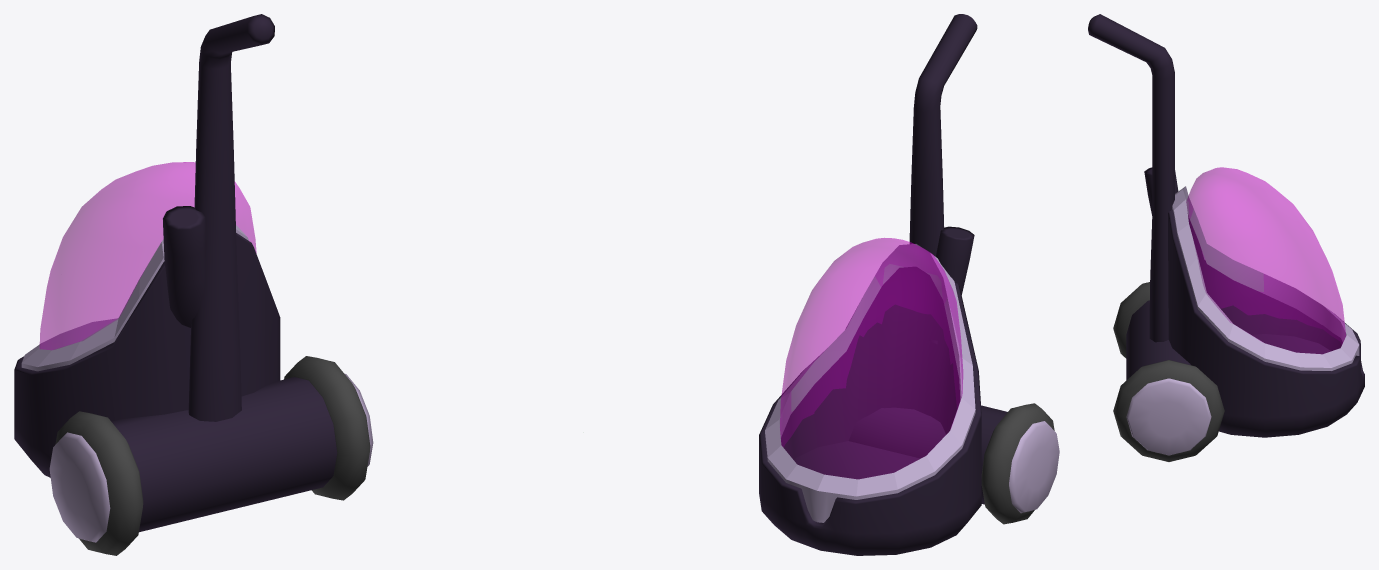
The model's file is M_vacbody.fbx.
3 views of the same model, side by side, from view 1: azimuth 30°, elevation 25°; view 2: azimuth 150°, elevation 25°; view 3: azimuth 270°, elevation 25° (orthographic). The views are drawn at different scales.
Visible parts, largest first — view 1: body1, tank, wheels, wheel_cap, trim; view 2: body1, tank, trim, wheels, wheel_cap; view 3: body1, tank, trim, wheel_cap, wheels.
Boxes of the visible parts, left/top/right/bottom form: body1: left=14, top=14, right=337, bottom=532; tank: left=39, top=162, right=256, bottom=350; wheels: left=55, top=356, right=370, bottom=555; wheel_cap: left=49, top=373, right=373, bottom=542; trim: left=21, top=225, right=248, bottom=371; body1: left=759, top=14, right=1007, bottom=555; tank: left=780, top=238, right=963, bottom=478; trim: left=765, top=244, right=975, bottom=522; wheels: left=981, top=403, right=1054, bottom=524; wheel_cap: left=1009, top=421, right=1059, bottom=513; body1: left=1088, top=14, right=1364, bottom=437; tank: left=1186, top=167, right=1345, bottom=353; trim: left=1172, top=186, right=1359, bottom=370; wheel_cap: left=1126, top=378, right=1211, bottom=455; wheels: left=1113, top=282, right=1224, bottom=461.
Size of the model in its own units: 3.15 by 3.2 by 1.99.
